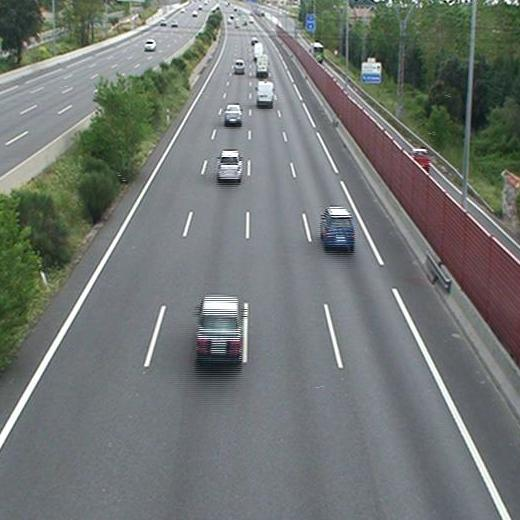car: (197, 297, 242, 360), (321, 210, 355, 246), (216, 150, 242, 179), (223, 105, 242, 123), (233, 59, 245, 73)
van: (256, 82, 274, 105), (255, 54, 268, 76), (253, 42, 263, 56)
